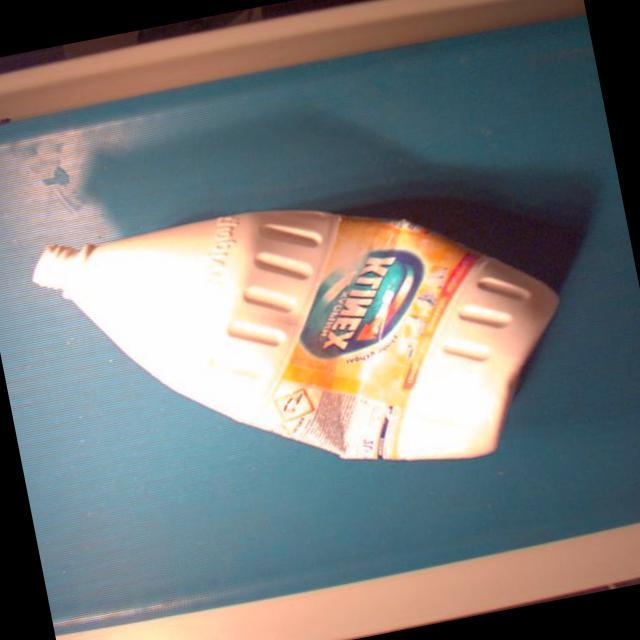HDPE Plastic: (29, 205, 566, 464)
